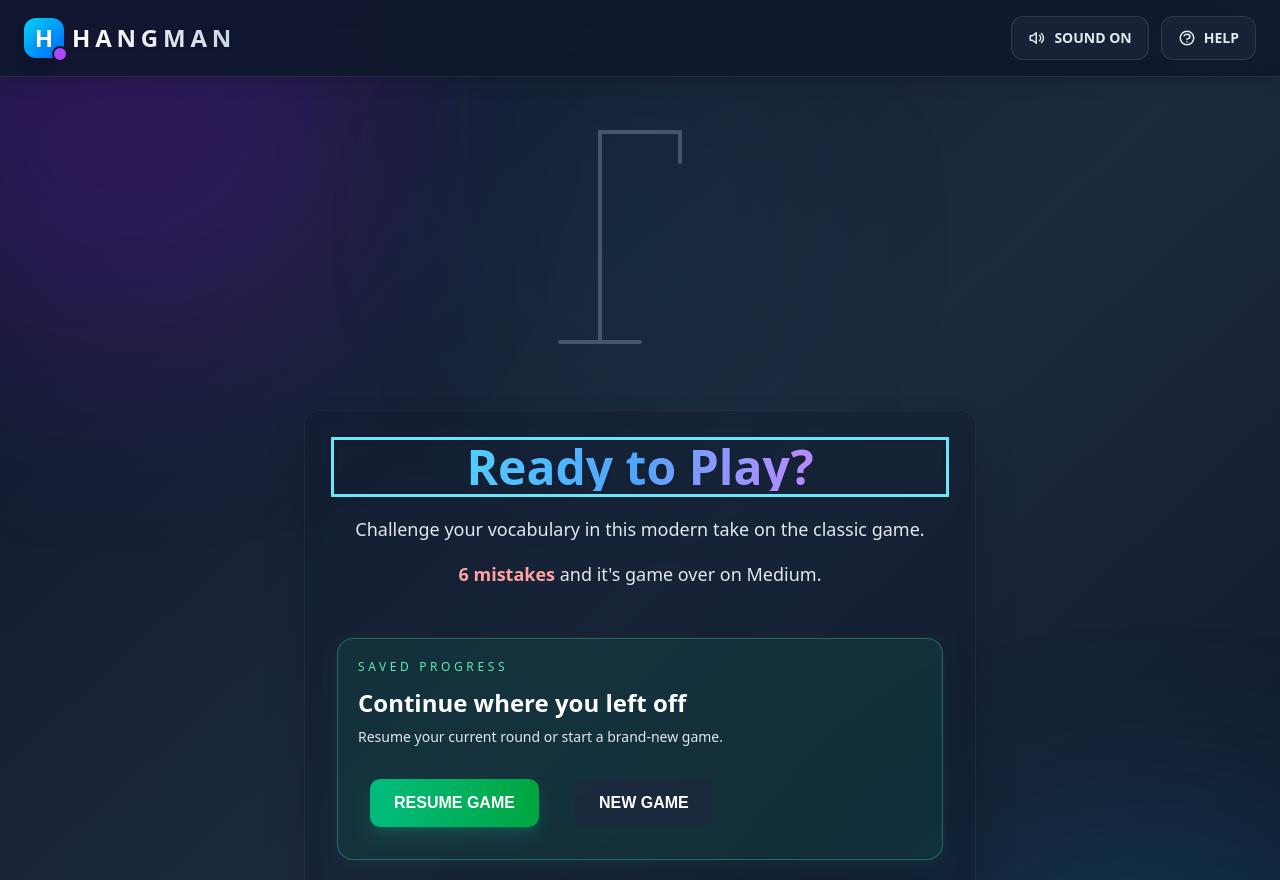
Scenario: new game clears saved progress and starts fresh
Click the button "New Game" at (644, 802), box [575,778,713,826]
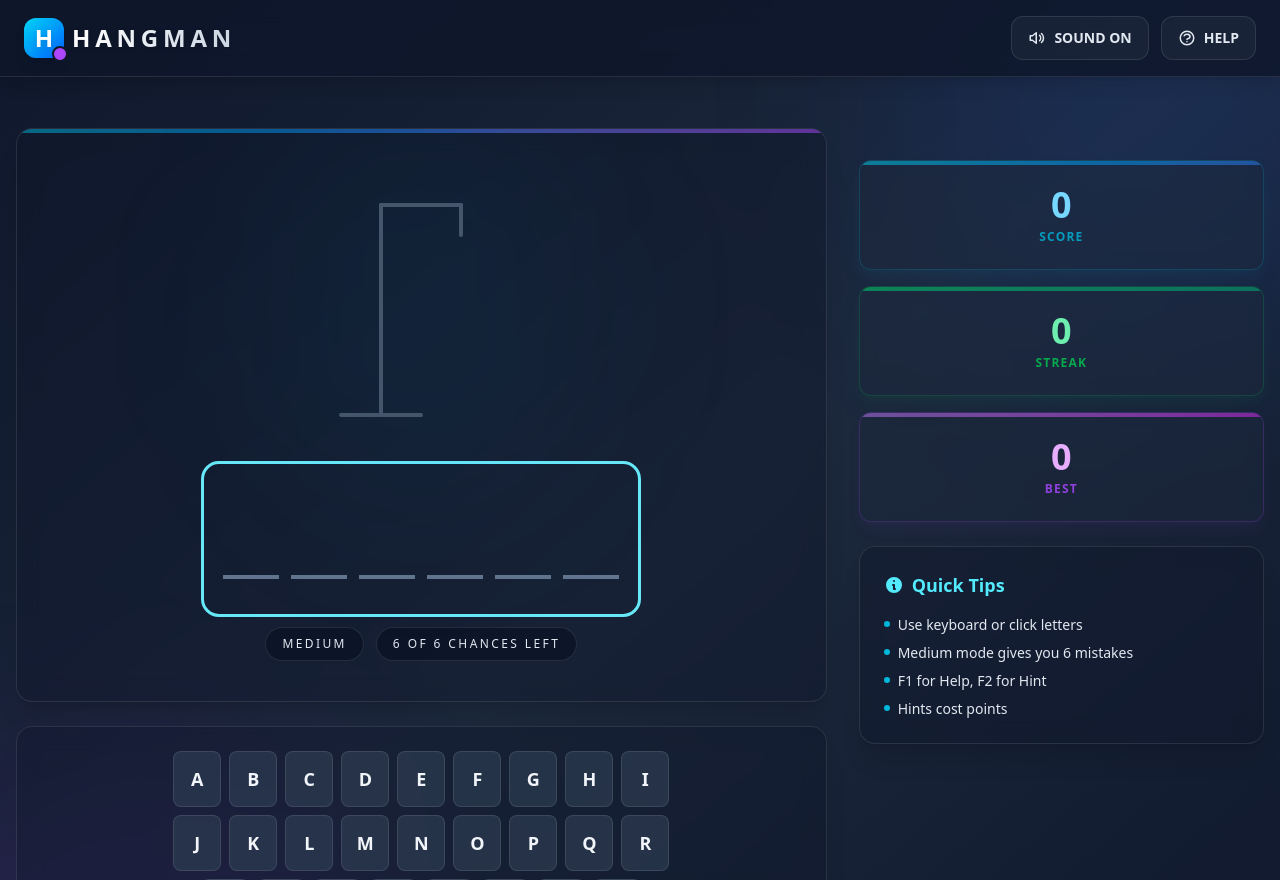
Expected: the heading "Continue where you left off" is gone
